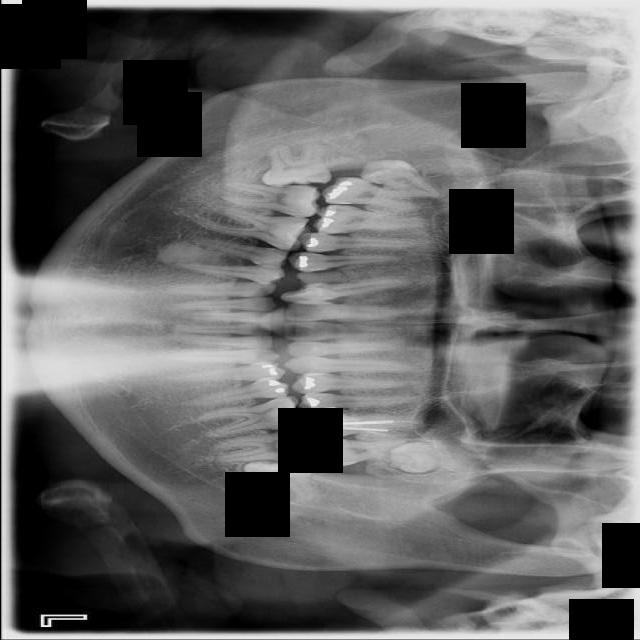3M ESPE Implant: (356, 148, 449, 206)
52: (257, 395, 301, 432), (307, 405, 347, 442), (244, 373, 289, 404), (320, 177, 371, 204), (311, 204, 355, 235), (289, 371, 337, 396), (285, 250, 330, 275), (296, 232, 340, 254), (240, 361, 285, 382), (296, 392, 334, 414)
73: (338, 409, 427, 446), (18, 620, 30, 630)
BioHorizons Implant: (312, 438, 442, 467)
BioLife Implant: (386, 440, 446, 475)
Biomet 3i Implant: (242, 459, 321, 505)
Blue Sky Bio Implant: (209, 424, 318, 474)
Caries: (319, 174, 439, 212)
Implant: (215, 180, 321, 219)
Keystone Dental Implant: (256, 138, 333, 192)
